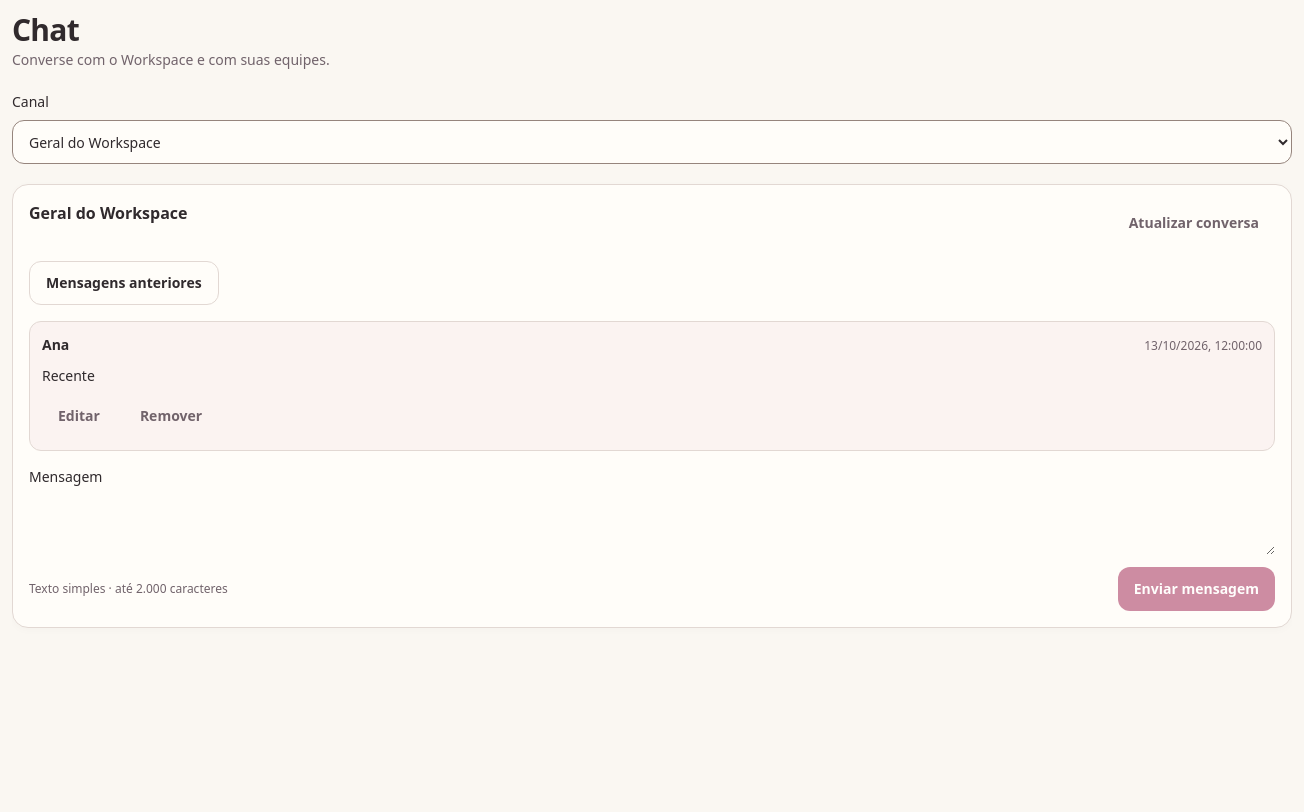
Test case: histórico usa cursor e retorna às recentes
The image size is (1304, 812).
Click the button "Mensagens anteriores": (124, 283) [29,261,219,305]
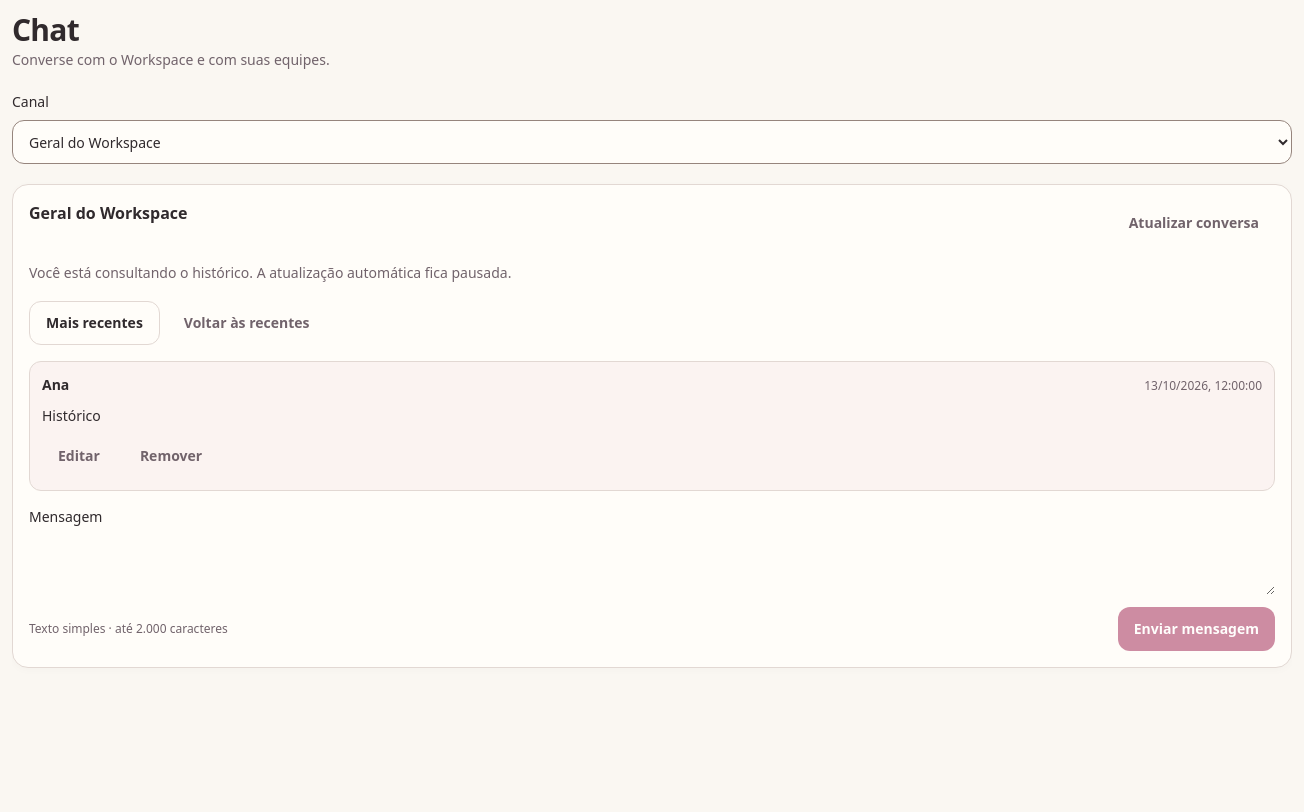
Now the text "Histórico" is shown, box [42,406,101,425]
Click the button "Voltar às recentes": (247, 323) [168,301,326,345]
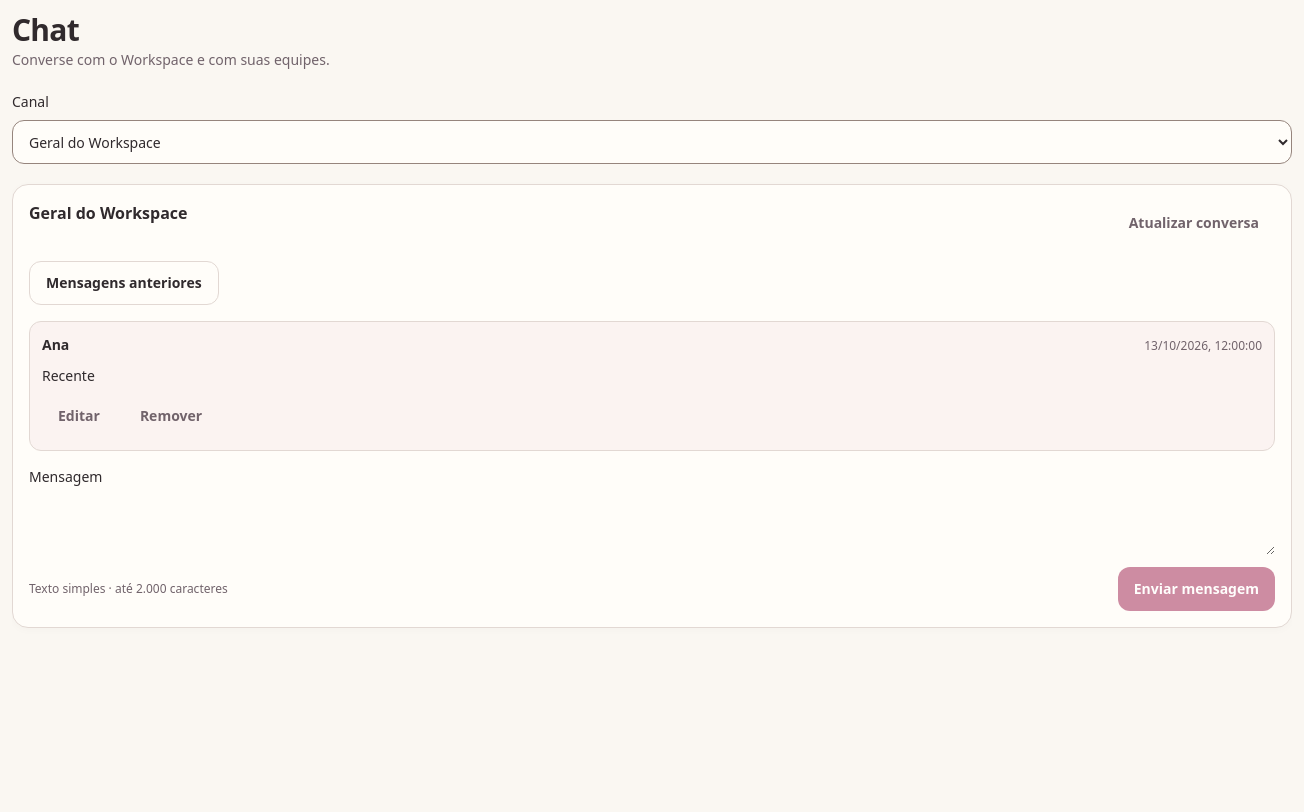
Now the text "Recente" is shown, box [42,366,95,385]
